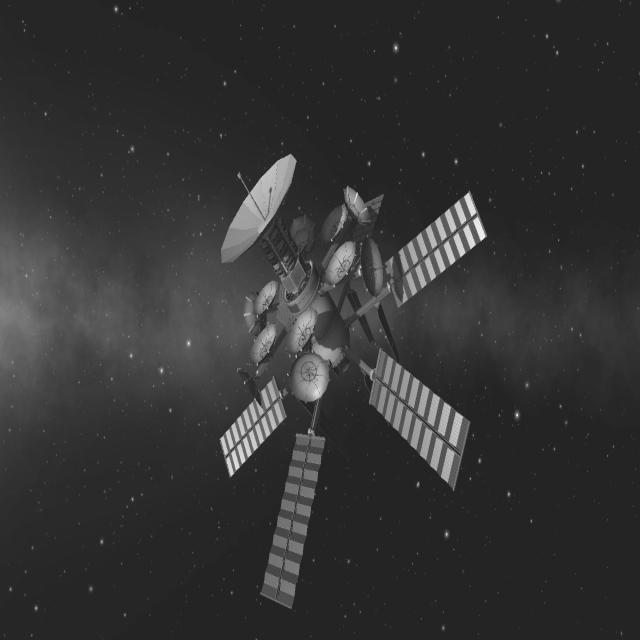satellite: (172, 136, 502, 617)
